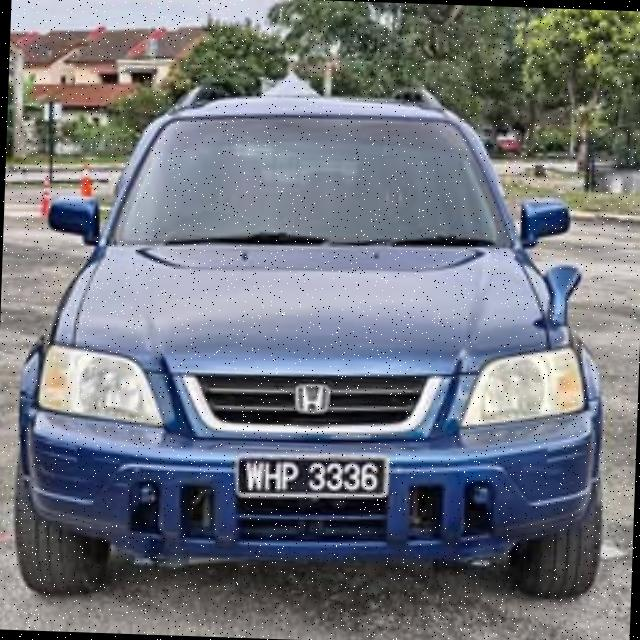License_Plate: (233, 452, 390, 503)
car: (9, 60, 620, 614)
